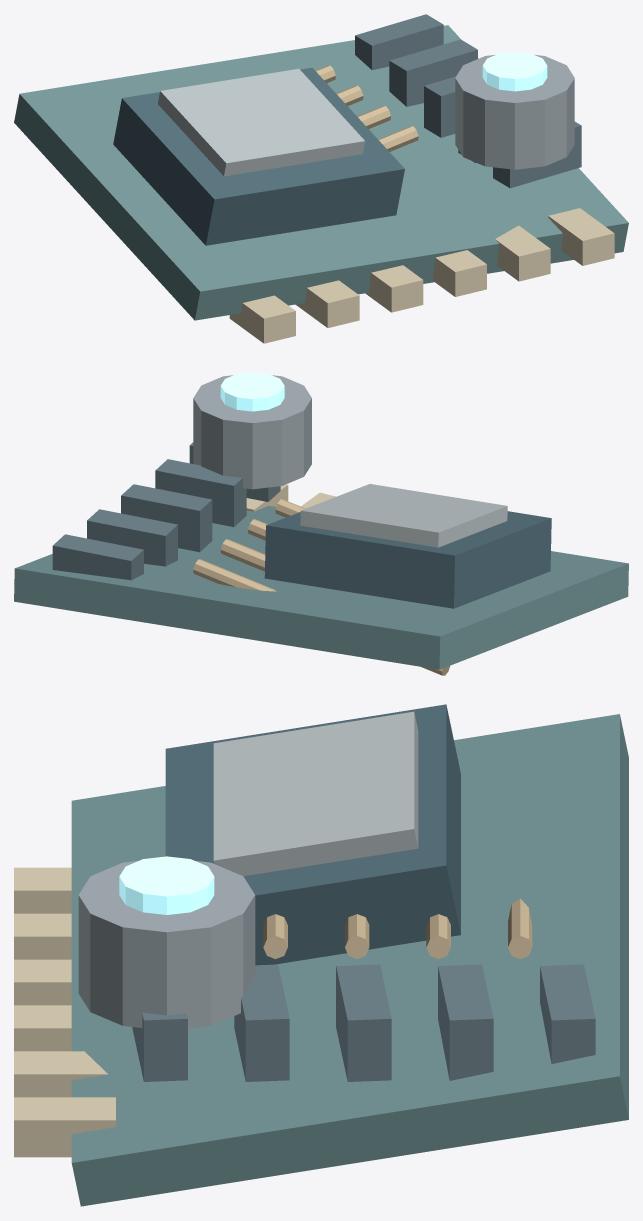
File: electronics_mid.gltf
The picture shows the model from 3 angles, top to bottom: view 1: azimuth 30°, elevation 25°; view 2: azimuth 150°, elevation 25°; view 3: azimuth 270°, elevation 25°; orthographic projection. The views are drawn at different scales.
Visible parts, largest first — view 1: electronics_mid; view 2: electronics_mid; view 3: electronics_mid.
Boxes of the visible parts, bbox=[...] form: electronics_mid: bbox=[14, 14, 628, 343]; electronics_mid: bbox=[14, 372, 628, 675]; electronics_mid: bbox=[14, 704, 628, 1206].
Size of the model in its own units: 1.09 by 0.4431 by 0.9051.
